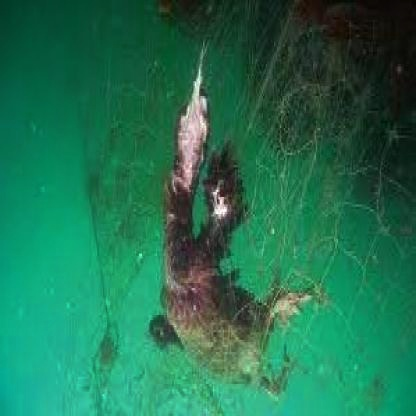net: (238, 0, 416, 416)
